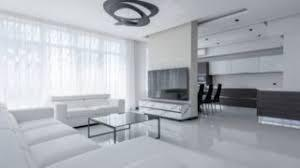TV: (144, 66, 192, 101)
chair: (212, 82, 223, 117), (205, 84, 215, 116), (198, 83, 206, 115)
console: (140, 98, 192, 121)
sofa: (0, 104, 237, 168), (48, 94, 128, 128)
table: (87, 114, 164, 143)
